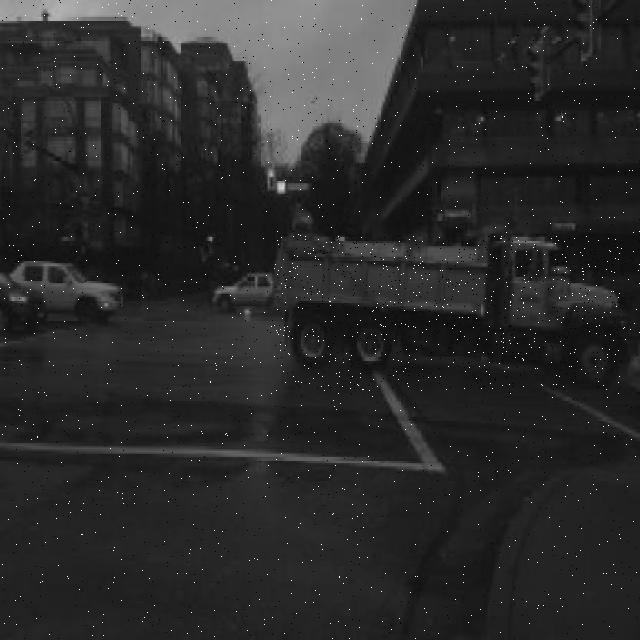Truck- Multi-Axle: (274, 236, 626, 390)
